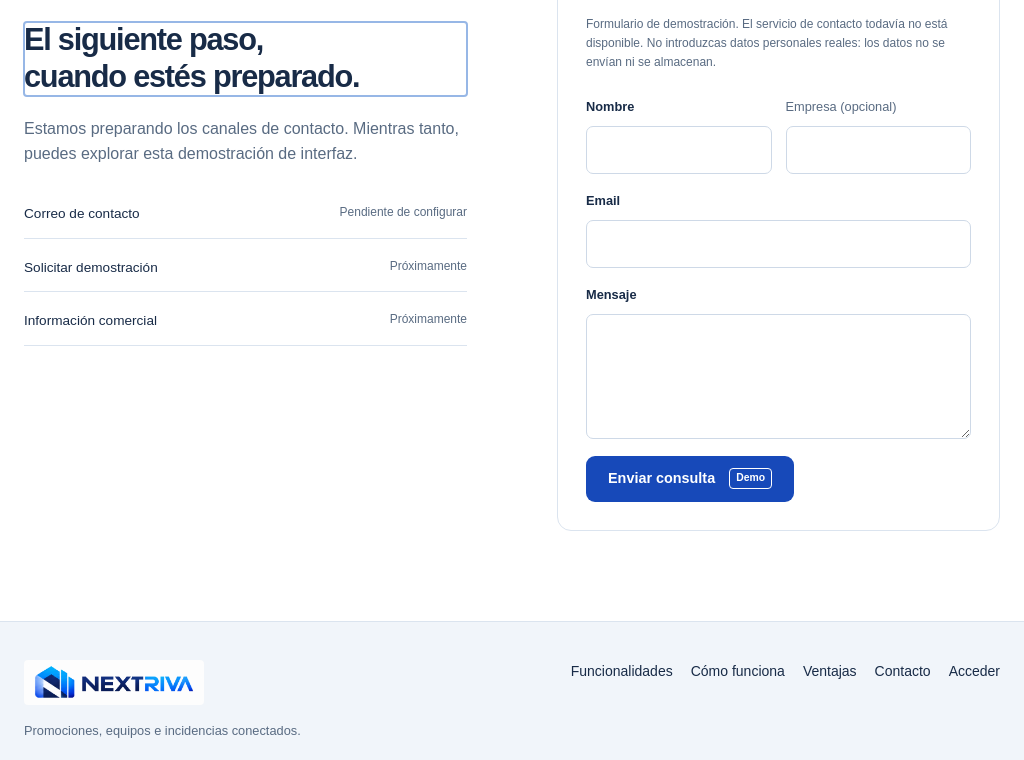
Test: clearly marks contact as a demo and never sends or stores entered data
This screenshot has width=1024, height=760.
(page scrolled)
Type "Persona ficticia" into the field labelled "Nombre" at {"x": 679, "y": 150}, box [586,126,772,174]
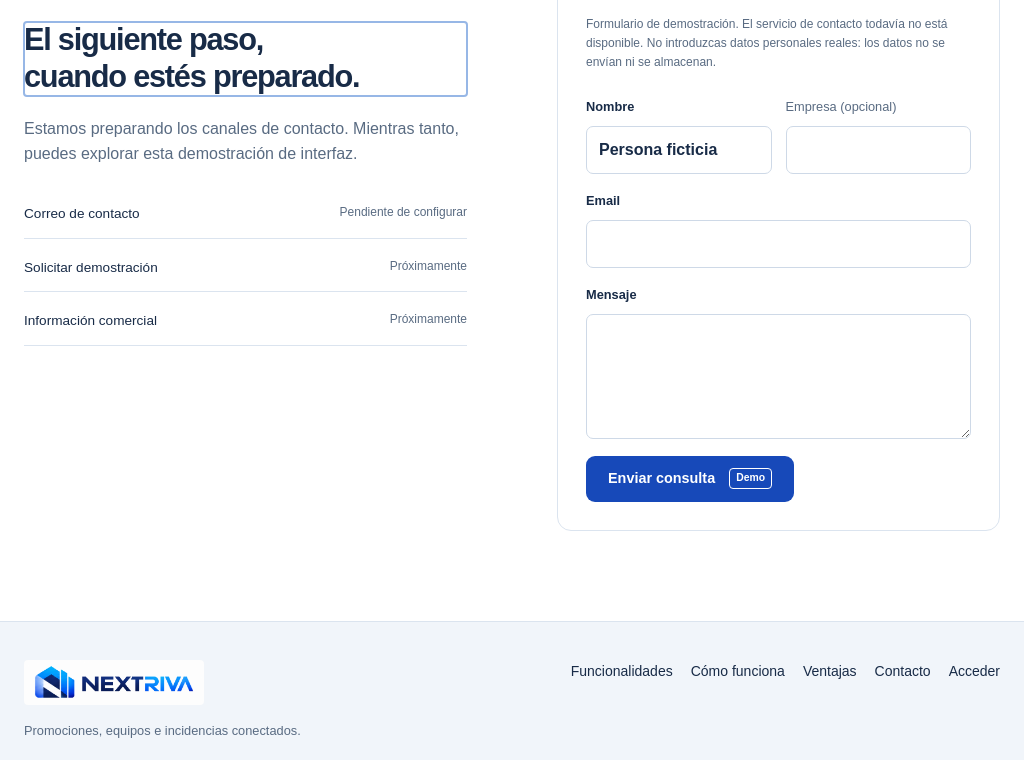
Type "demo@example.test" into the field labelled "Email" at {"x": 778, "y": 244}, box [586,220,971,268]
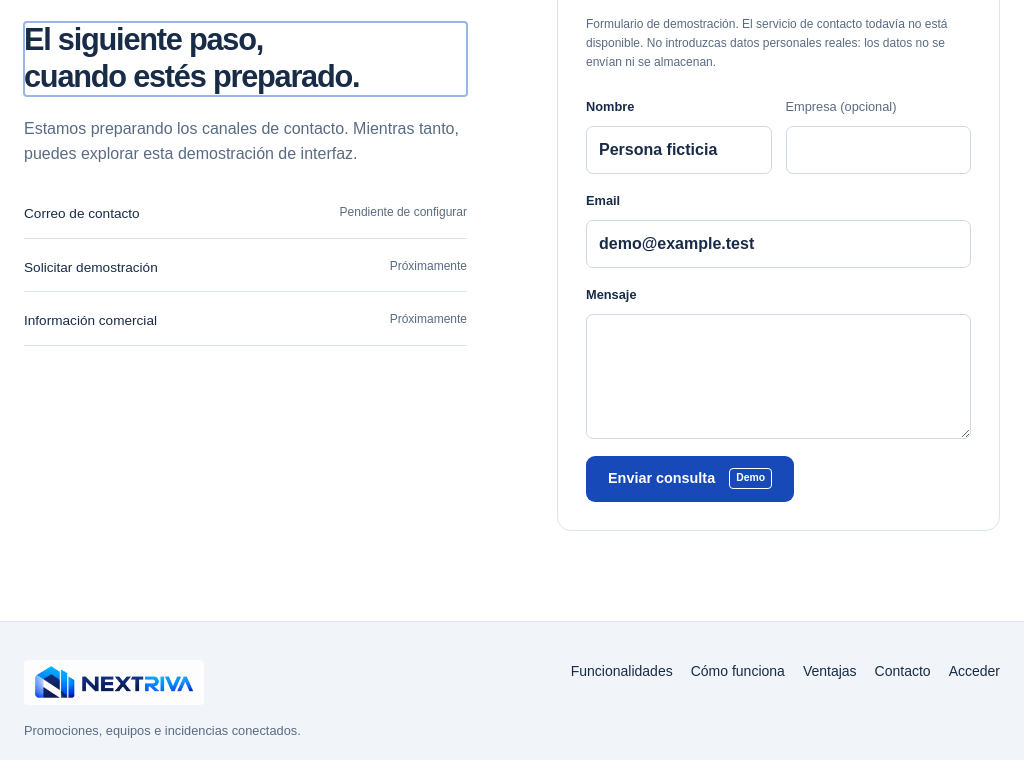
Type "Consulta ficticia" into the text box labelled "Mensaje" at {"x": 778, "y": 376}, box [586,314,971,439]
(page scrolled)
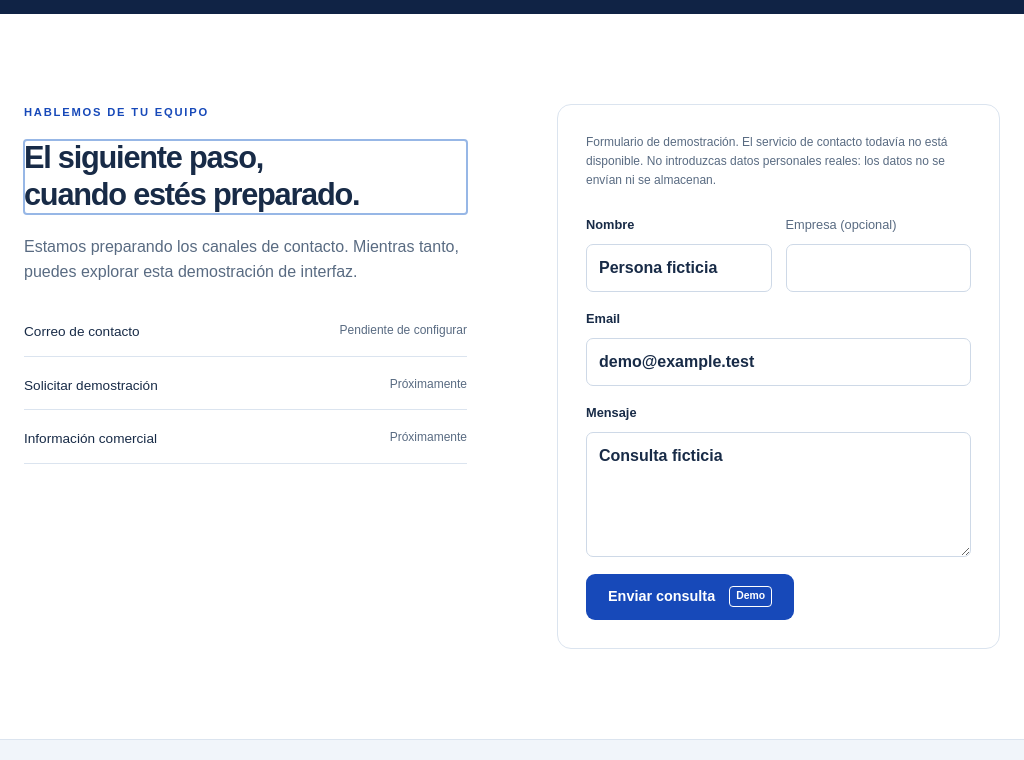
Submit the form named "Contacto de demostración", box [557,104,1000,649]
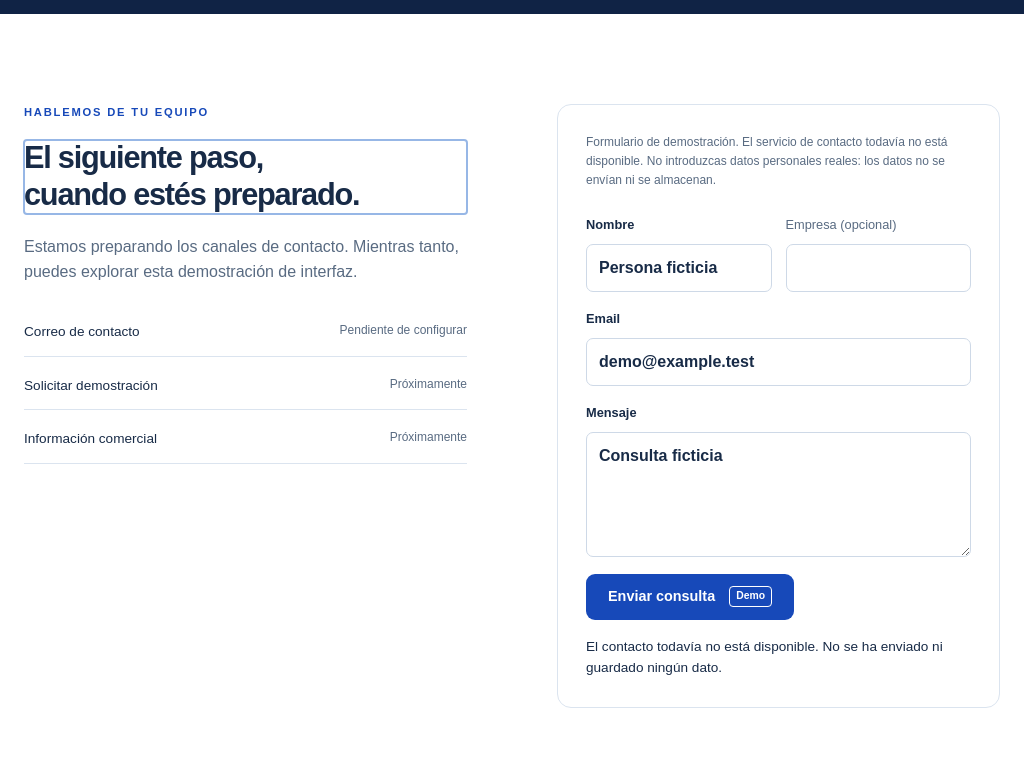
Check: the message shows "El contacto todavía no está disponible. No se ha enviado ni guardado ningún dato.", box [586,639,943,675]
